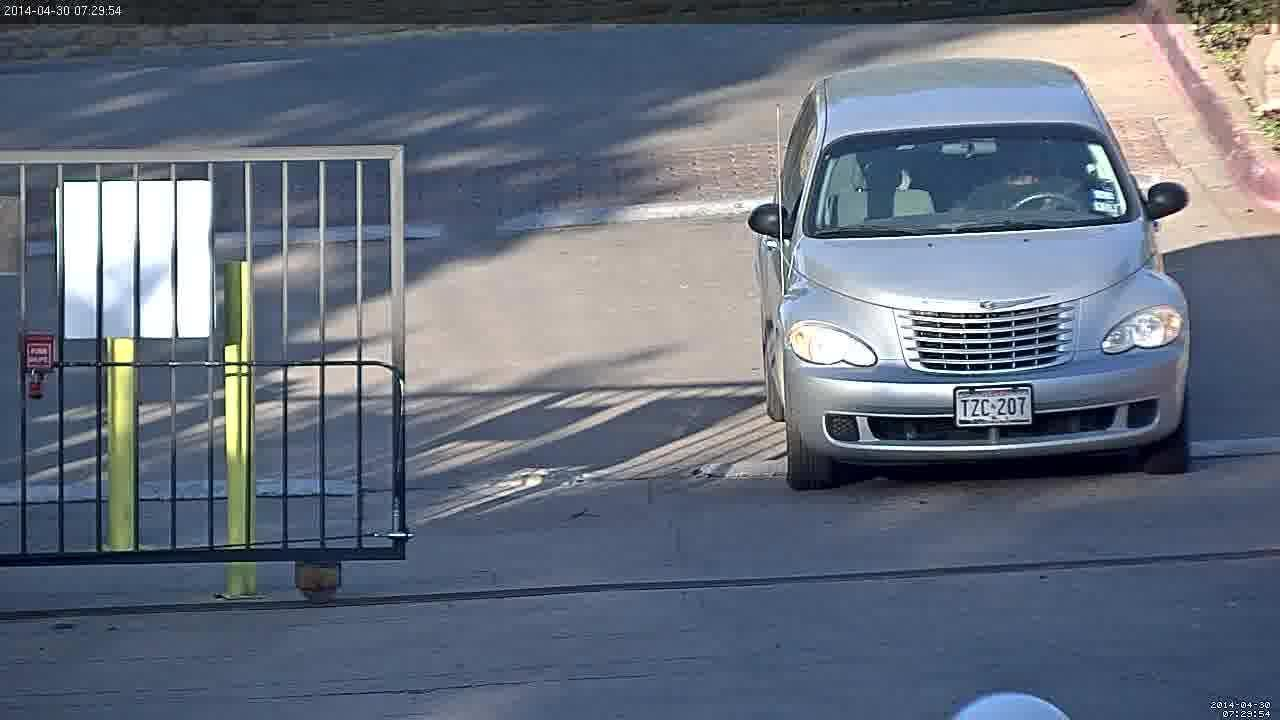placa de veiculo: (937, 368, 1058, 450)
